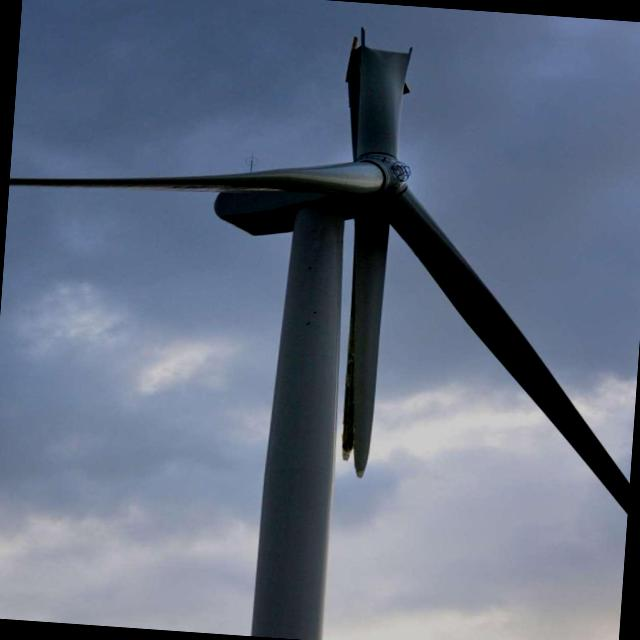crack: (298, 14, 443, 491)
